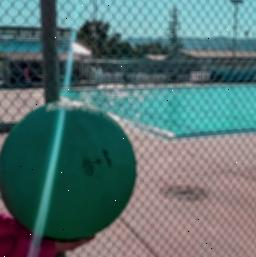algae: (0, 98, 141, 238)
